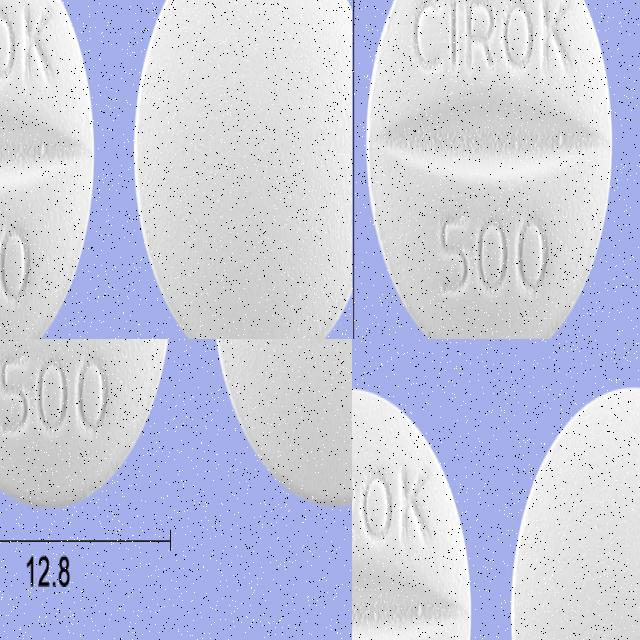Cirok: (506, 378, 640, 640), (352, 380, 476, 640)
Clithocin - 500mg: (0, 339, 216, 513)
Clocin Film Coated Tab: (443, 196, 640, 339)
Diflucan Cap - 150mg: (0, 251, 189, 339)
